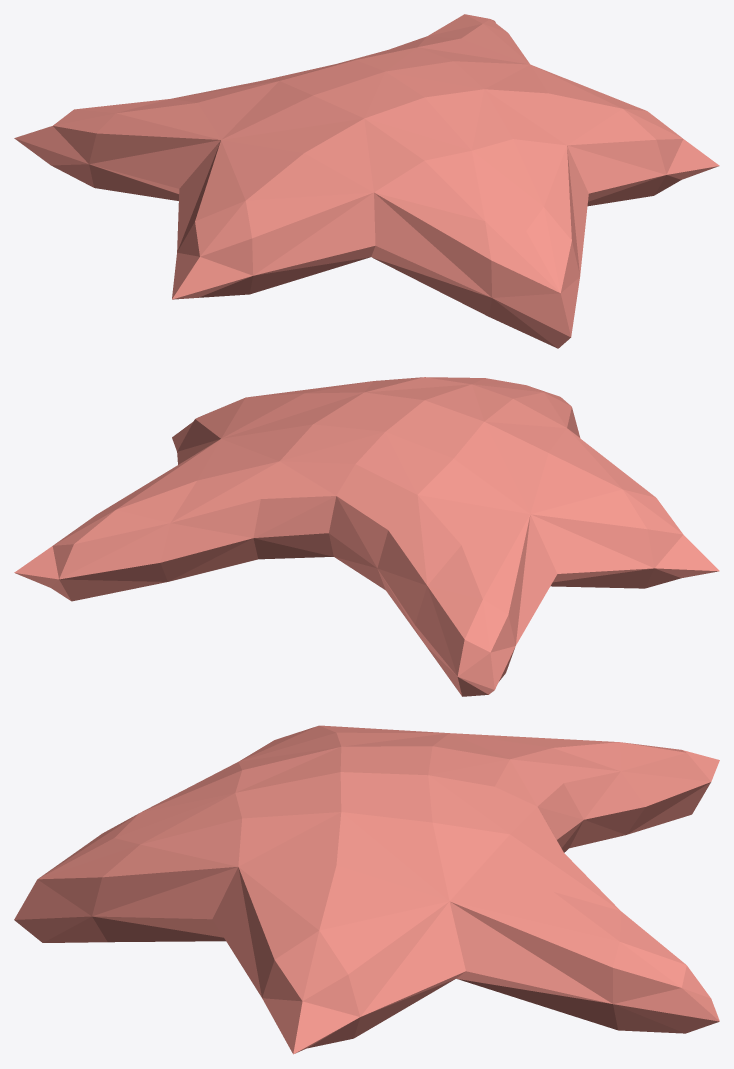
Rendered from hvezdice.glb.
3 views of the same model, one above another, from view 1: azimuth 30°, elevation 25°; view 2: azimuth 150°, elevation 25°; view 3: azimuth 270°, elevation 25° (orthographic). The views are drawn at different scales.
Visible parts, largest first — view 1: hvezdice; view 2: hvezdice; view 3: hvezdice.
Boxes of the visible parts, left/top/right/bottom form: hvezdice: left=14, top=14, right=719, bottom=348; hvezdice: left=14, top=377, right=719, bottom=696; hvezdice: left=14, top=725, right=719, bottom=1054.
Bounding box in the file's own units: 0.2997 × 0.0802 × 0.3.
1 material, 1 textured.
